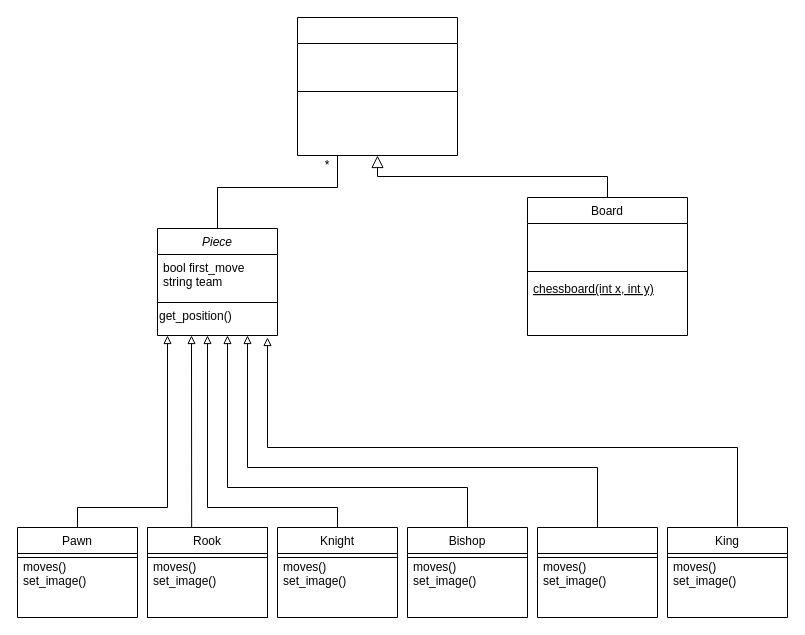
Some shapes in this 805 by 635 pixel diagram are drawn without their labels. The centre of each missing label's shape, as x and y in pixels:
"Game" belongs at pixel 377 86.
"Queen" belongs at pixel 597 572.
